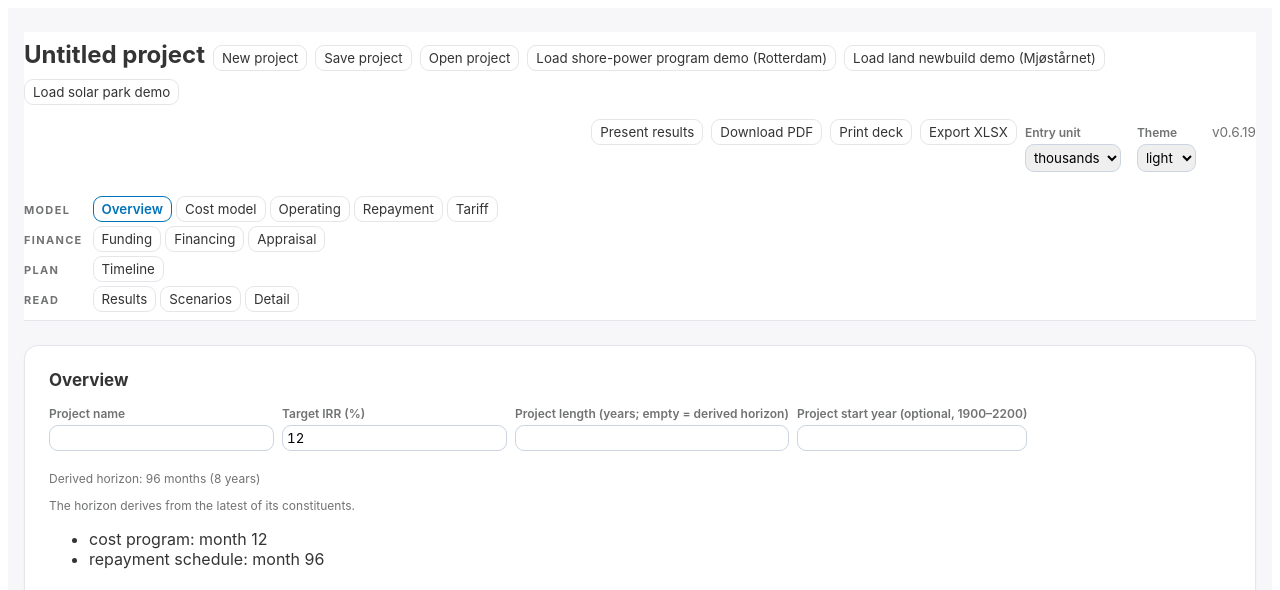
Scenario: chunk 7: carried fixes › an out-of-range start year surfaces a validation message
Click the button "Load shore-power program demo (Rotterdam)" at [682, 58], box [527,45,836,71]
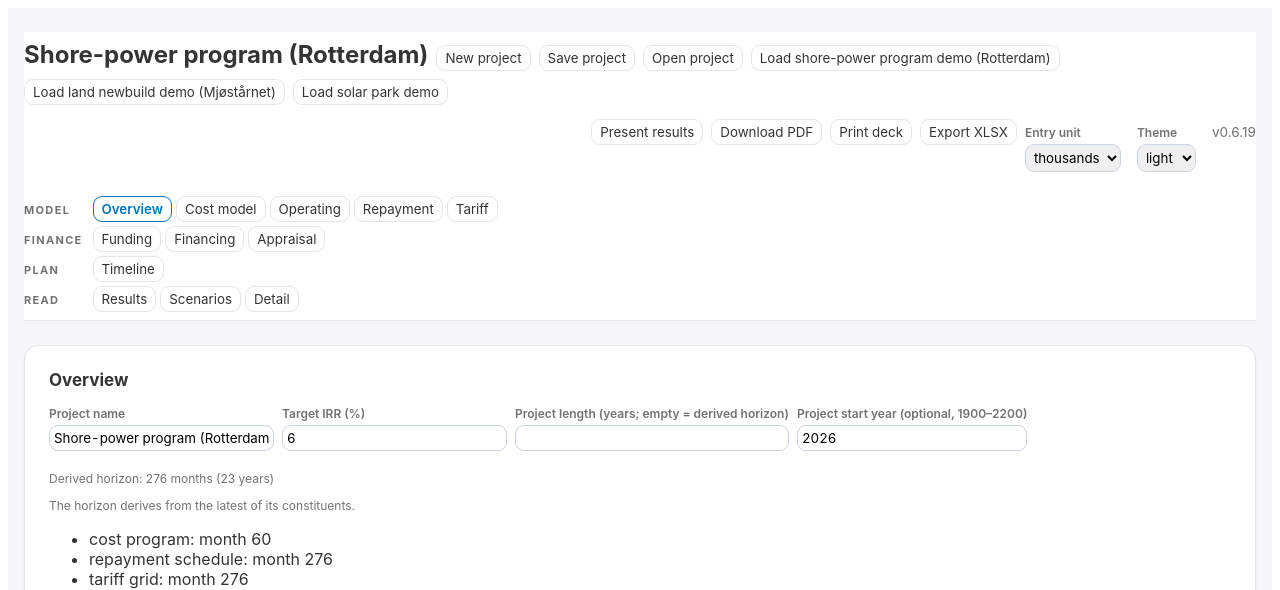
Replace the text in the number field labelled "Project start year (optional, 1900–2200)" with "1800" at [912, 438], box [797,425,1027,451]
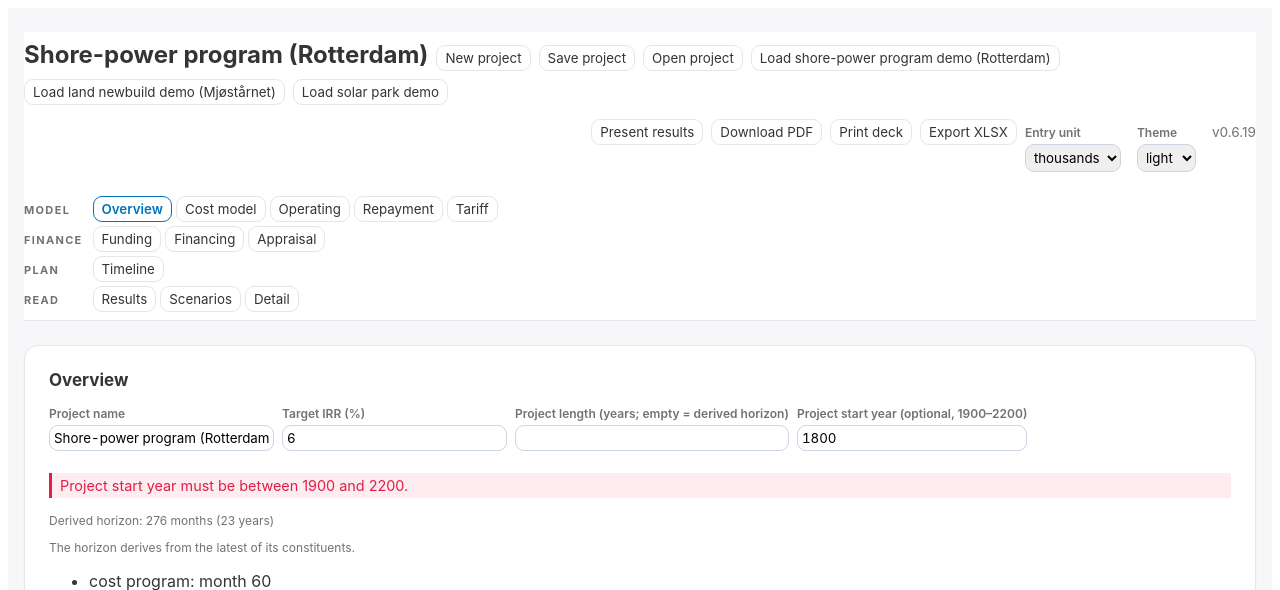
Expected: the text with test id "start-year-error" shows "between 1900 and 2200", [60,477,408,494]
Replace the text in the number field labelled "Project start year (optional, 1900–2200)" with "2026" at [912, 438], box [797,425,1027,451]
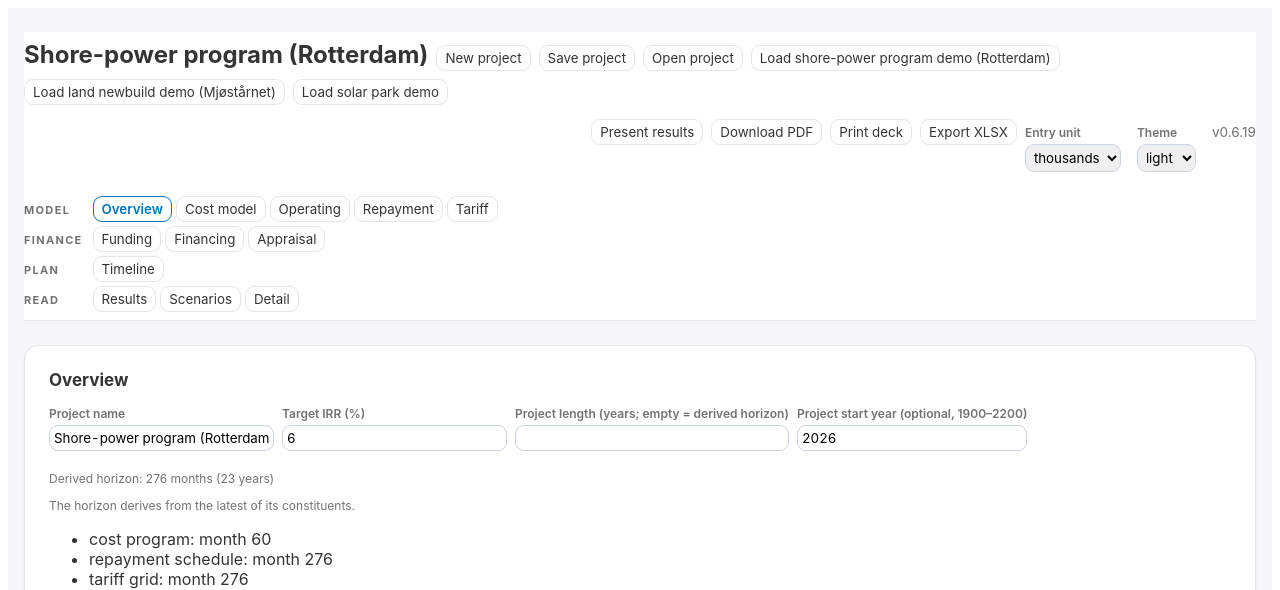
Expected: the text with test id "start-year-error" is gone
